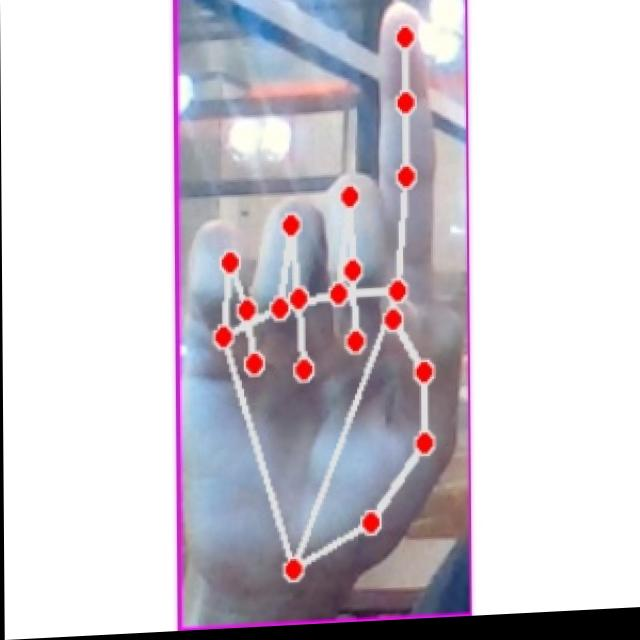D: (186, 0, 464, 604)
